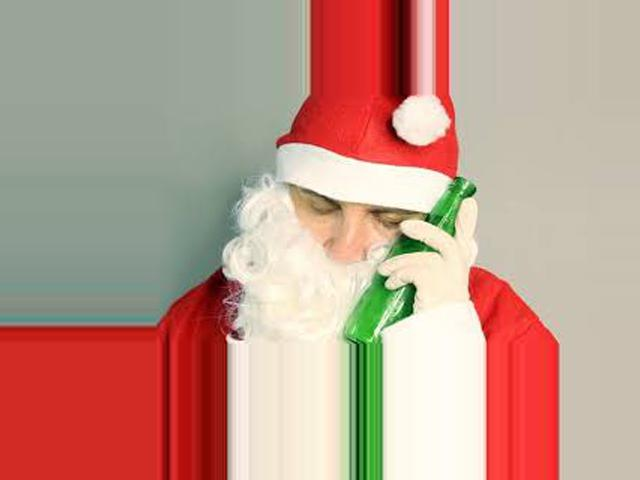beer: (346, 178, 478, 345)
